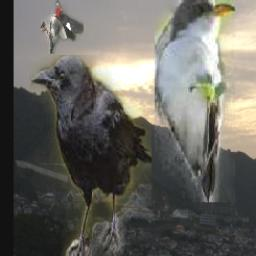Crow: (30, 55, 153, 256)
Cuckoo: (156, 0, 236, 203)
Woodpecker: (42, 1, 85, 55)
